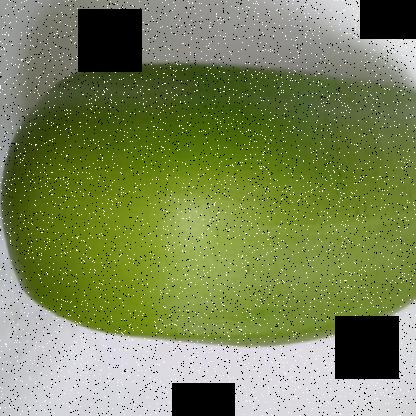freshunripe: (1, 37, 415, 350)
